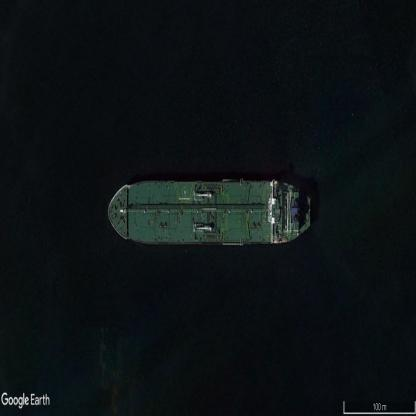ship: (108, 180, 310, 244)
